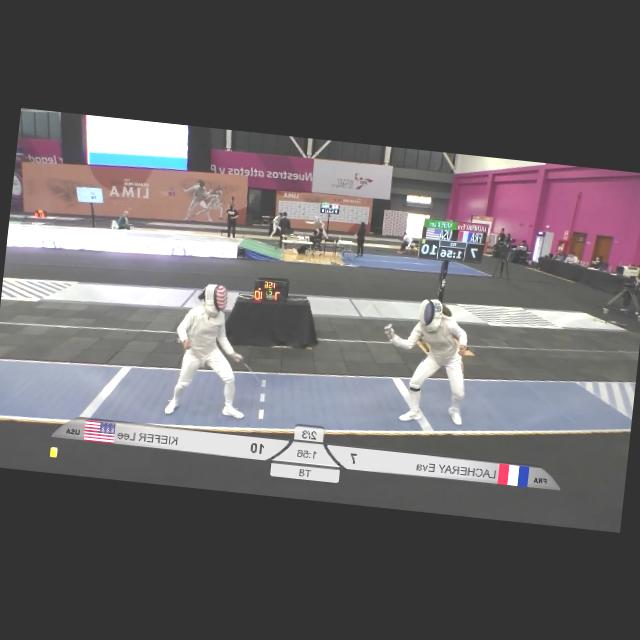blade: (231, 354, 276, 398), (356, 285, 395, 330)
